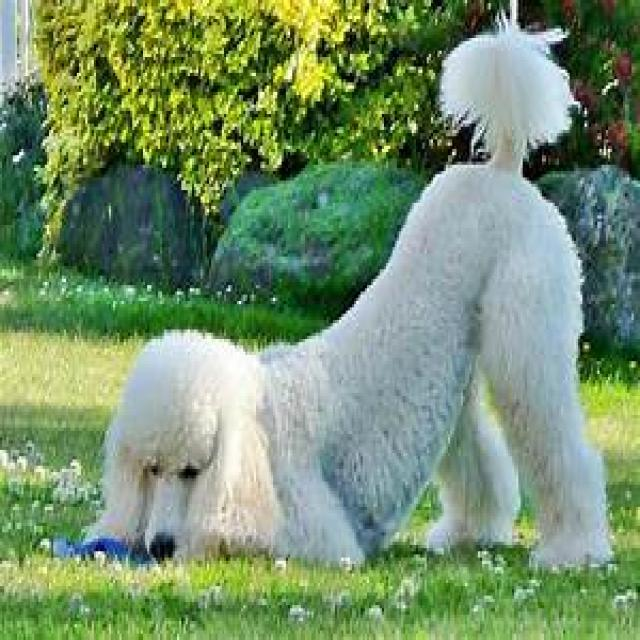dog: (51, 22, 617, 570)
